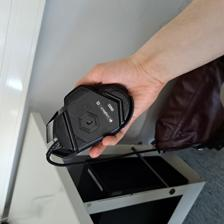mouse: (45, 81, 135, 158)
